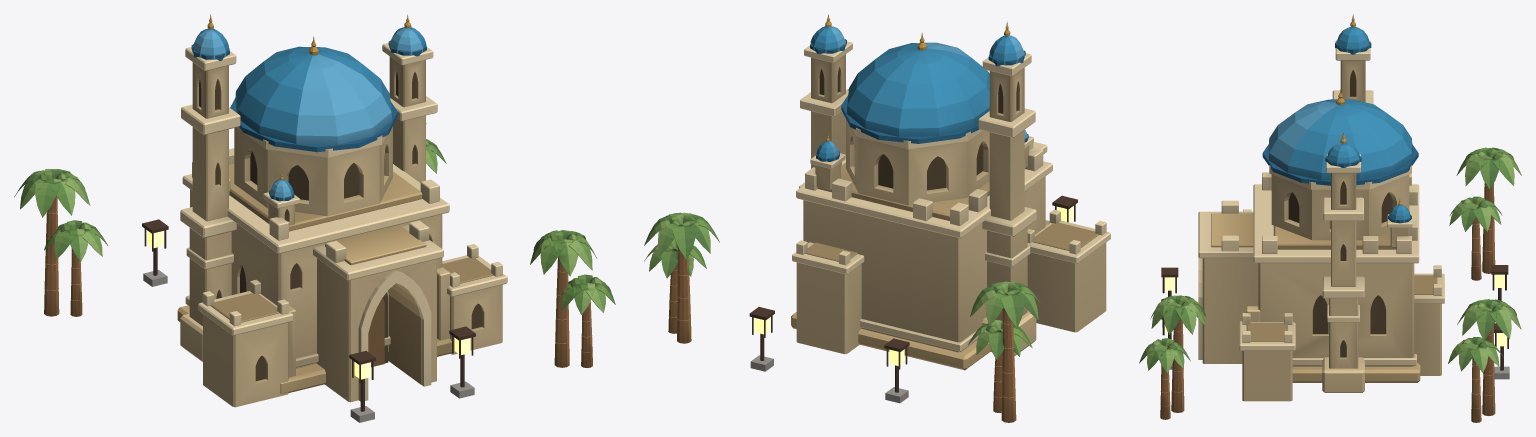
Rendered from baghdad.glb.
The picture shows the model from 3 angles, left to right: view 1: azimuth 30°, elevation 25°; view 2: azimuth 150°, elevation 25°; view 3: azimuth 270°, elevation 25°; orthographic projection. The views are drawn at different scales.
Parts seen in each view (by area): view 1: baghdad_BGD_Sandstone_005_R2_01, baghdad_BGD_LimestoneLip_005_R2_00, baghdad_BGD_DomeFacet_005_R2_05, baghdad_BGD_RoofSand_005_R2_04, baghdad_BGD_DomeBlue_005_R2_06, baghdad_BGD_DeepArch_005_R2_02, baghdad_R2_Entry_Reveal_03, baghdad_R2_Palm_Leaf_3_15, baghdad_R2_Palm_Leaf_2_14, baghdad_R2_Palm_Trunk_1_19, baghdad_BGD_DomeBase_005_R2_07, baghdad_WarmMini_wooddark_11 (+8 smaller); view 2: baghdad_BGD_Sandstone_005_R2_01, baghdad_BGD_LimestoneLip_005_R2_00, baghdad_BGD_DomeBlue_005_R2_06, baghdad_BGD_RoofSand_005_R2_04, baghdad_R2_Palm_Leaf_1_13, baghdad_BGD_DeepArch_005_R2_02, baghdad_R2_Palm_Trunk_1_19, baghdad_R2_Palm_Leaf_0_17, baghdad_BGD_DomeBase_005_R2_07, baghdad_R2_Palm_Trunk_0_18, baghdad_R2_Palm_Leaf_2_14, baghdad_R2_Palm_Trunk_2_20 (+6 smaller); view 3: baghdad_BGD_Sandstone_005_R2_01, baghdad_BGD_LimestoneLip_005_R2_00, baghdad_BGD_DomeBlue_005_R2_06, baghdad_BGD_RoofSand_005_R2_04, baghdad_R2_Palm_Leaf_2_14, baghdad_R2_Palm_Leaf_1_13, baghdad_BGD_DeepArch_005_R2_02, baghdad_BGD_DomeFacet_005_R2_05, baghdad_R2_Palm_Trunk_1_19, baghdad_R2_Palm_Leaf_3_15, baghdad_R2_Palm_Trunk_0_18, baghdad_R2_Palm_Leaf_0_17 (+5 smaller).
Boxes of the visible parts, x1,y1,x2,y2 form: baghdad_BGD_Sandstone_005_R2_01: [180, 56, 502, 407]; baghdad_BGD_LimestoneLip_005_R2_00: [180, 43, 507, 401]; baghdad_BGD_DomeFacet_005_R2_05: [192, 28, 422, 200]; baghdad_BGD_RoofSand_005_R2_04: [177, 164, 493, 393]; baghdad_BGD_DomeBlue_005_R2_06: [195, 27, 426, 198]; baghdad_BGD_DeepArch_005_R2_02: [199, 71, 482, 380]; baghdad_R2_Entry_Reveal_03: [388, 283, 421, 384]; baghdad_R2_Palm_Leaf_3_15: [35, 139, 610, 314]; baghdad_R2_Palm_Leaf_2_14: [45, 139, 611, 314]; baghdad_R2_Palm_Trunk_1_19: [44, 196, 592, 367]; baghdad_BGD_DomeBase_005_R2_07: [191, 40, 426, 201]; baghdad_WarmMini_wooddark_11: [142, 219, 475, 411]; baghdad_BGD_Sandstone_005_R2_01: [796, 54, 1106, 356]; baghdad_BGD_LimestoneLip_005_R2_00: [792, 41, 1110, 351]; baghdad_BGD_DomeBlue_005_R2_06: [810, 26, 1017, 161]; baghdad_BGD_RoofSand_005_R2_04: [791, 162, 1098, 370]; baghdad_R2_Palm_Leaf_1_13: [649, 212, 1016, 359]; baghdad_BGD_DeepArch_005_R2_02: [819, 68, 1018, 190]; baghdad_R2_Palm_Trunk_1_19: [668, 246, 1016, 421]; baghdad_R2_Palm_Leaf_0_17: [658, 215, 1038, 360]; baghdad_BGD_DomeBase_005_R2_07: [810, 39, 1028, 161]; baghdad_R2_Palm_Trunk_0_18: [670, 251, 1008, 422]; baghdad_R2_Palm_Leaf_2_14: [644, 212, 1027, 353]; baghdad_R2_Palm_Trunk_2_20: [674, 256, 1013, 422]; baghdad_BGD_Sandstone_005_R2_01: [1202, 60, 1441, 401]; baghdad_BGD_LimestoneLip_005_R2_00: [1198, 40, 1444, 365]; baghdad_BGD_DomeBlue_005_R2_06: [1288, 26, 1412, 222]; baghdad_BGD_RoofSand_005_R2_04: [1211, 213, 1437, 382]; baghdad_R2_Palm_Leaf_2_14: [1139, 151, 1520, 373]; baghdad_R2_Palm_Leaf_1_13: [1139, 149, 1521, 370]; baghdad_BGD_DeepArch_005_R2_02: [1288, 70, 1392, 357]; baghdad_BGD_DomeFacet_005_R2_05: [1268, 26, 1398, 216]; baghdad_R2_Palm_Trunk_1_19: [1160, 182, 1495, 421]; baghdad_R2_Palm_Leaf_3_15: [1151, 149, 1513, 372]; baghdad_R2_Palm_Trunk_0_18: [1162, 186, 1489, 422]; baghdad_R2_Palm_Leaf_0_17: [1147, 147, 1516, 371].
Size of the model in its own units: 5.64 by 4.39 by 5.23.
